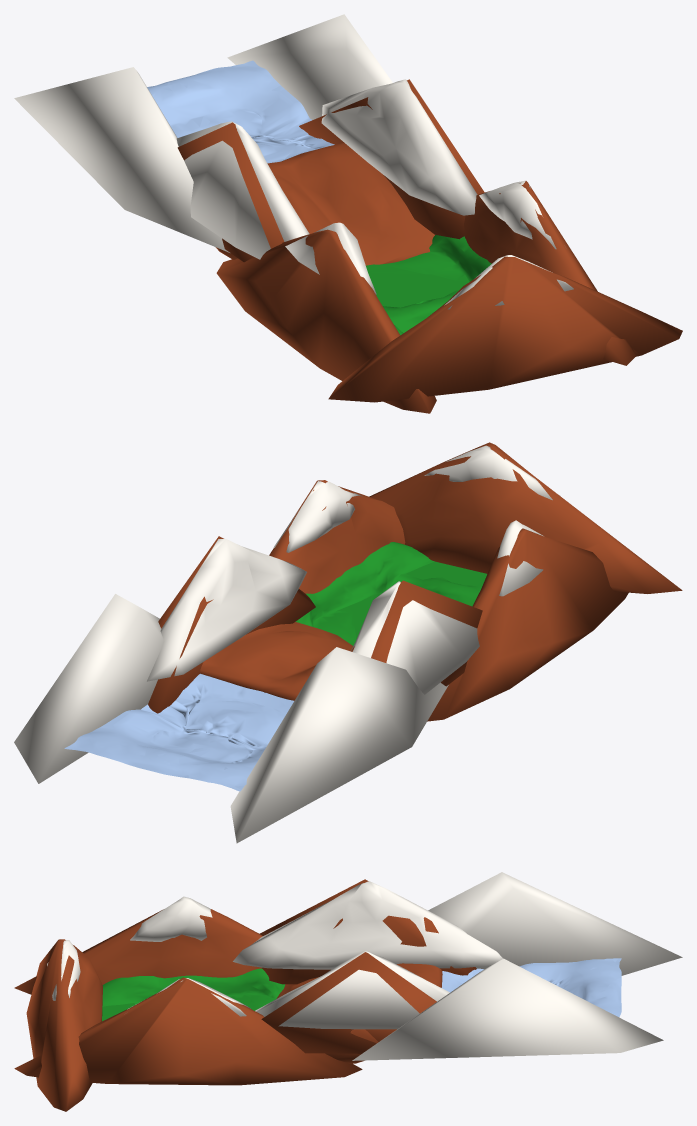
The model's file is terrainfinal.glb.
3 renders of one model, top to bottom at view 1: azimuth 30°, elevation 25°; view 2: azimuth 150°, elevation 25°; view 3: azimuth 270°, elevation 25°, orthographic. The views are drawn at different scales.
Visible parts, largest first — view 1: Cone; view 2: Cone; view 3: Cone.
Boxes of the visible parts, bbox=[...] form: Cone: bbox=[14, 14, 682, 413]; Cone: bbox=[14, 442, 682, 843]; Cone: bbox=[14, 872, 682, 1111].
Bounding box in the file's own units: 82.17 × 31.68 × 158.
